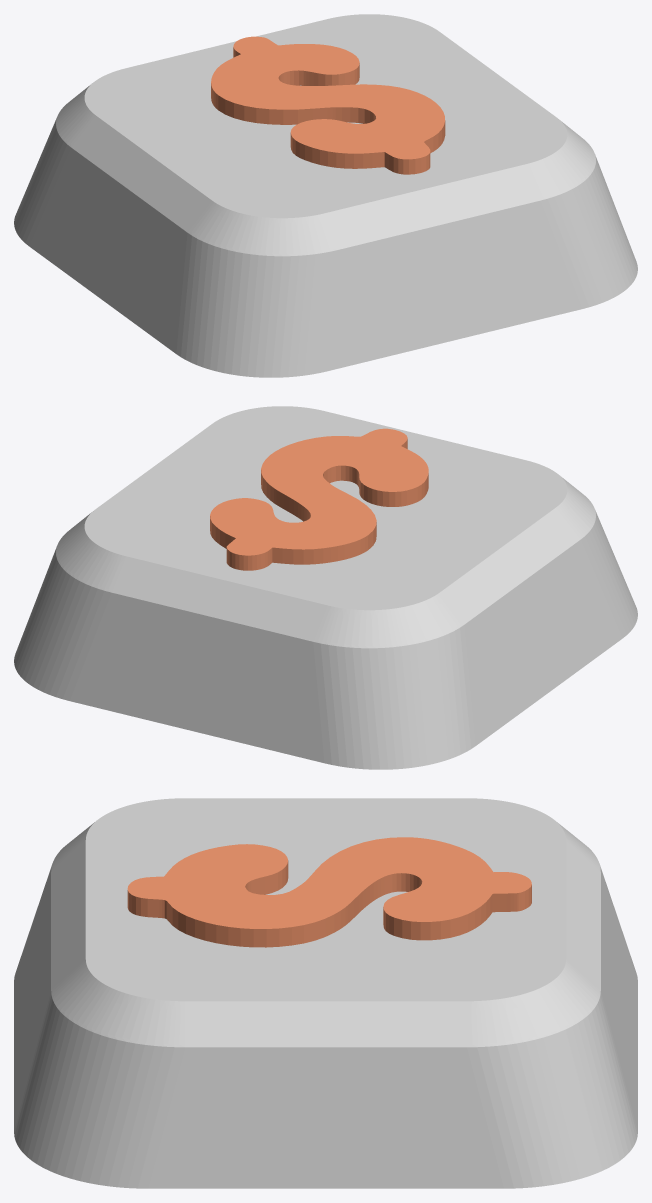
File: cap-dollar.glb
3 renders of one model, top to bottom at view 1: azimuth 30°, elevation 25°; view 2: azimuth 150°, elevation 25°; view 3: azimuth 270°, elevation 25°, orthographic. The views are drawn at different scales.
Parts seen in each view (by area): view 1: cap_0, glyph_1; view 2: cap_0, glyph_1; view 3: cap_0, glyph_1.
Boxes of the visible parts, x1,y1,x2,y2 form: cap_0: (14, 14, 637, 377); glyph_1: (211, 36, 445, 174); cap_0: (14, 406, 637, 769); glyph_1: (210, 428, 428, 570); cap_0: (14, 798, 637, 1188); glyph_1: (127, 837, 531, 947).
Bounding box in the file's own units: 18 × 5.59 × 18.
